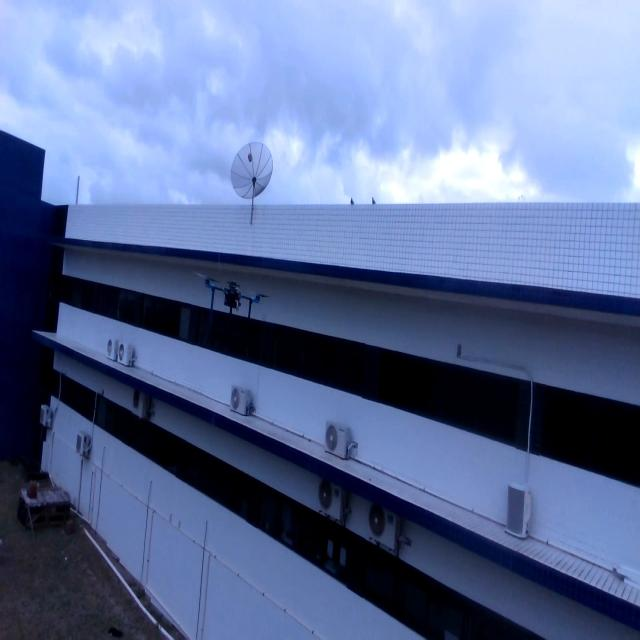-uav-: (195, 264, 270, 338)
